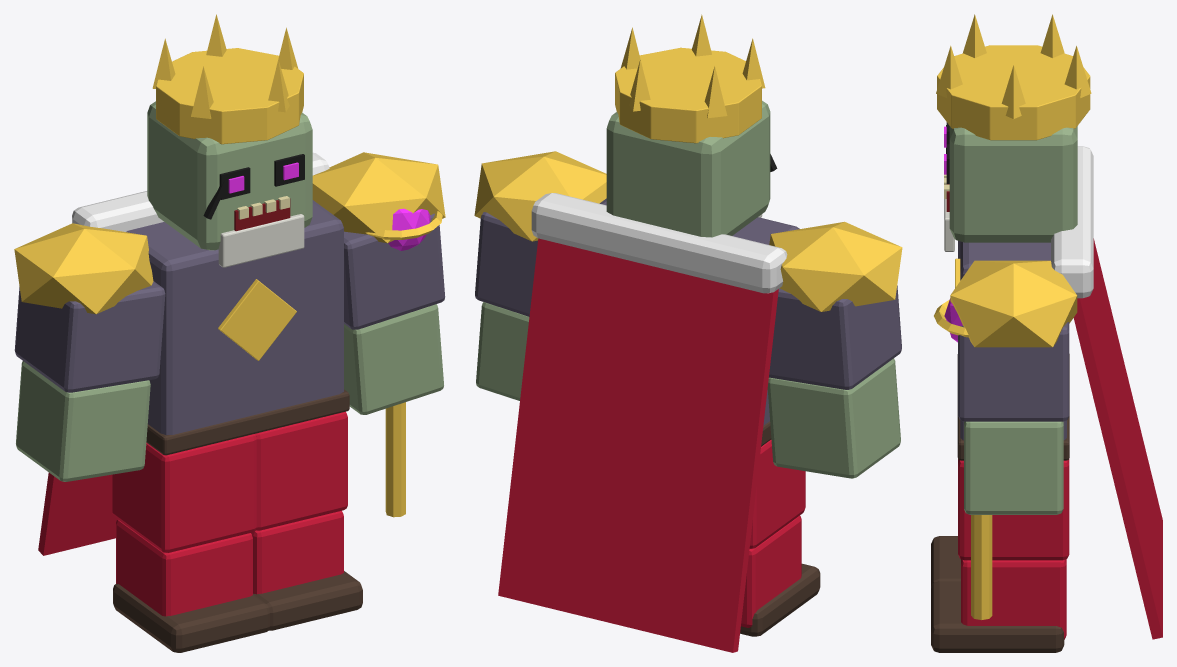
The model's file is jefe_rey_zombi.glb.
The picture shows the model from 3 angles, left to right: view 1: azimuth 30°, elevation 25°; view 2: azimuth 150°, elevation 25°; view 3: azimuth 270°, elevation 25°; orthographic projection. The views are drawn at different scales.
Visible parts, largest first — view 1: Torso, LeftArm, Head, RightArm, LeftLeg, RightLeg; view 2: Torso, LeftArm, Head, RightArm, LeftLeg; view 3: RightArm, Head, Torso, RightLeg, LeftLeg.
Boxes of the visible parts, box(x1,y1,x2,y2) form: Torso: box(38, 152, 349, 555); LeftArm: box(14, 223, 165, 481); Head: box(147, 14, 312, 267); RightArm: box(312, 152, 445, 517); LeftLeg: box(112, 434, 269, 652); RightLeg: box(251, 411, 362, 630); Torso: box(498, 193, 799, 652); LeftArm: box(767, 221, 902, 478); Head: box(606, 14, 777, 237); RightArm: box(474, 151, 606, 400); LeftLeg: box(740, 440, 820, 636); RightArm: box(934, 260, 1077, 619); Head: box(936, 14, 1091, 251); Torso: box(955, 146, 1162, 639); RightLeg: box(931, 459, 1069, 652); LeftLeg: box(931, 536, 960, 588).
Size of the model in its own units: 13.73 by 17.76 by 6.52.
Materials: 1 (1 with a texture image).
